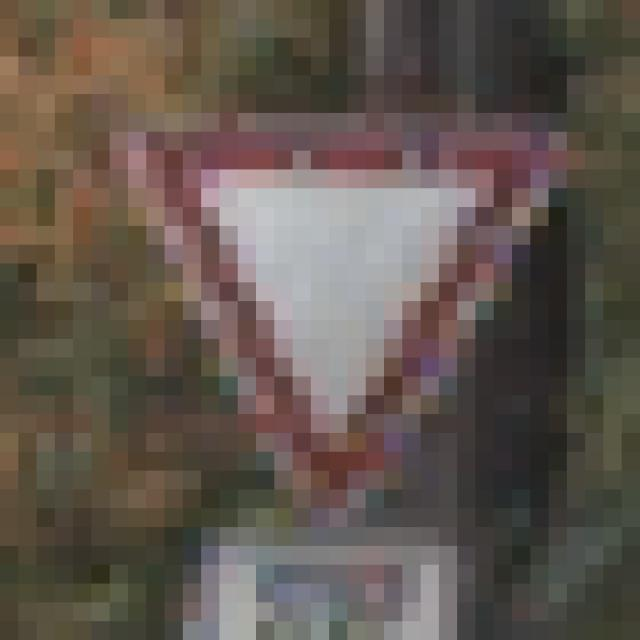Give Way: (111, 95, 550, 547)
